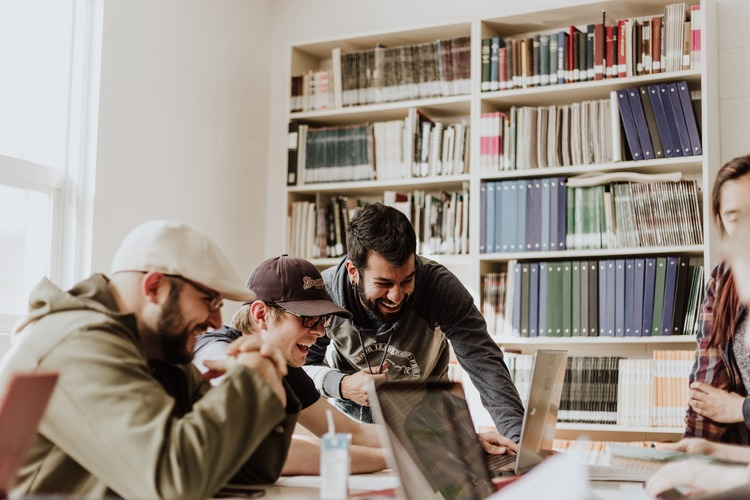without_mask: (167, 271, 222, 367), (362, 252, 415, 318), (276, 299, 325, 368)
